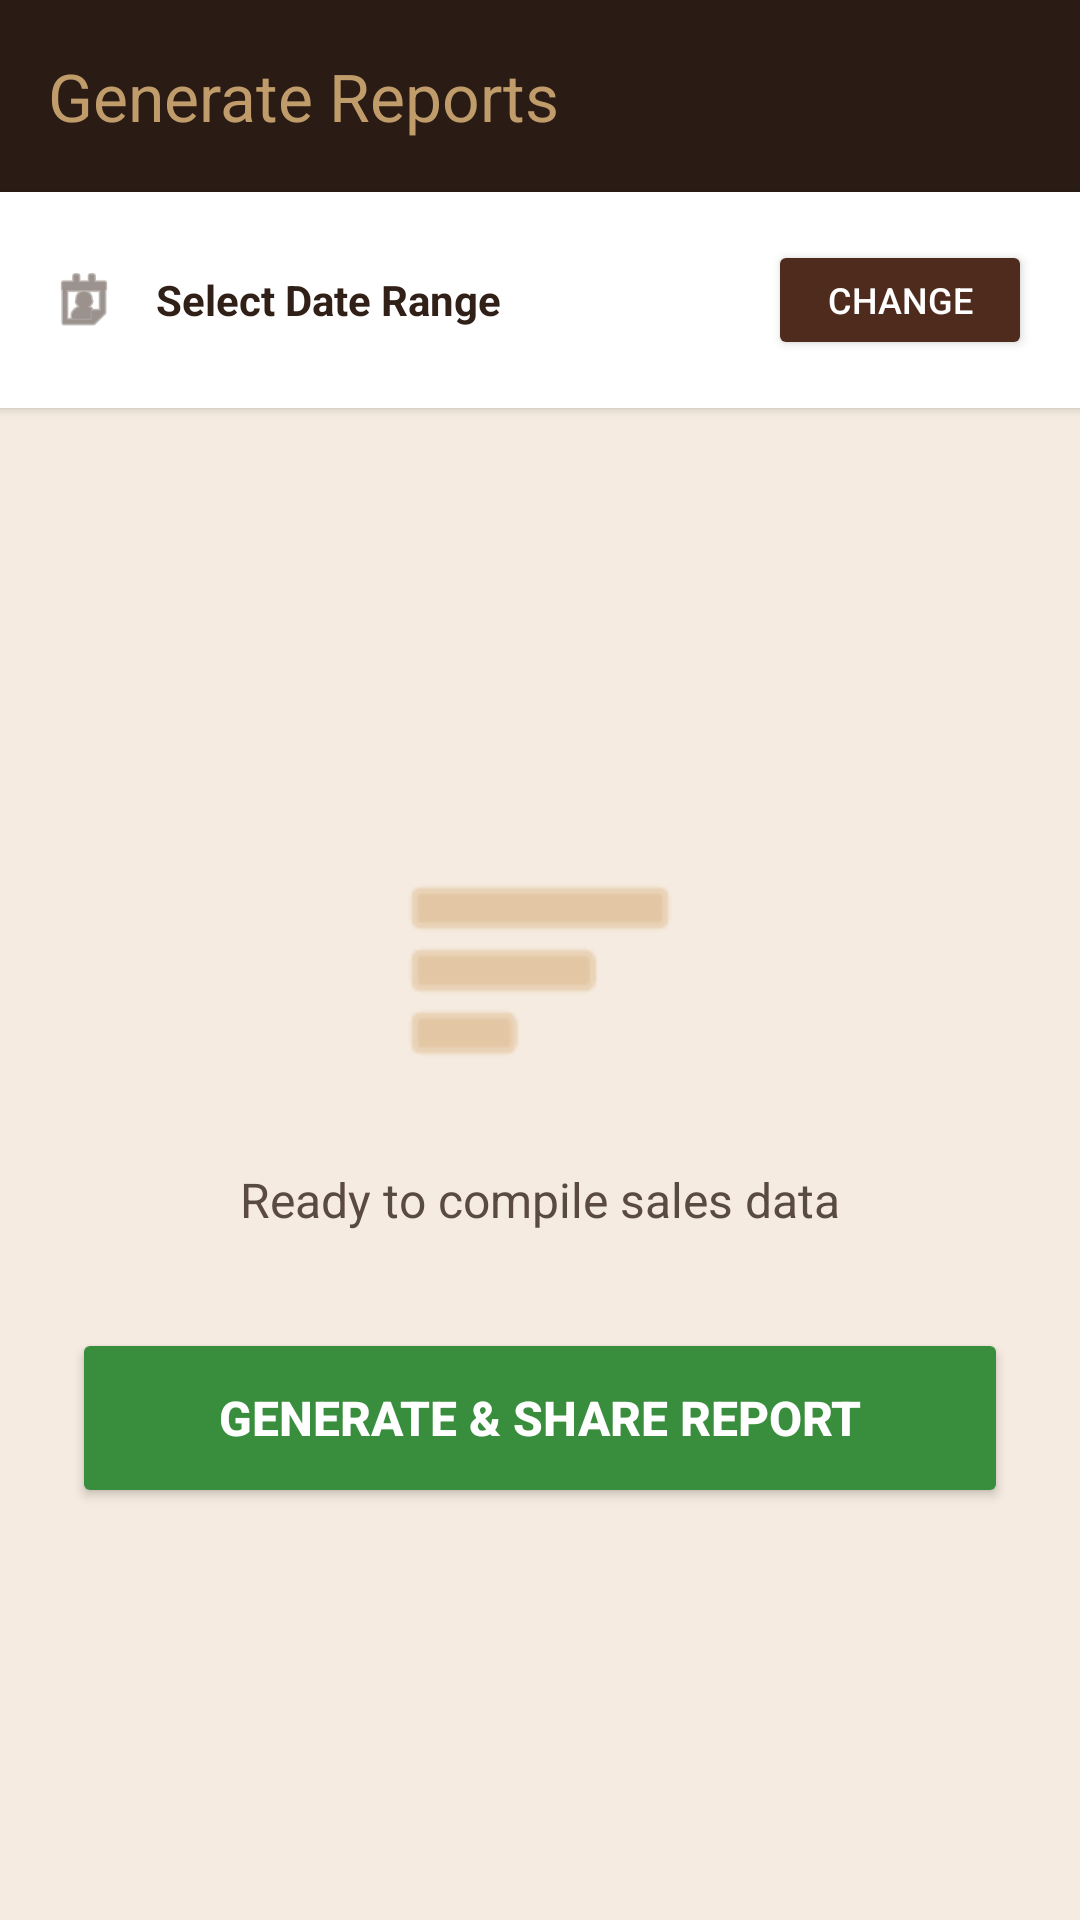

Where icons sit on this 1080w x 1920h app screen, as {"x1": x1, "y1": y1, "x2": x2, "y2": y2}:
calendar: {"x1": 61, "y1": 273, "x2": 107, "y2": 326}
sort by size: {"x1": 412, "y1": 888, "x2": 668, "y2": 1053}
